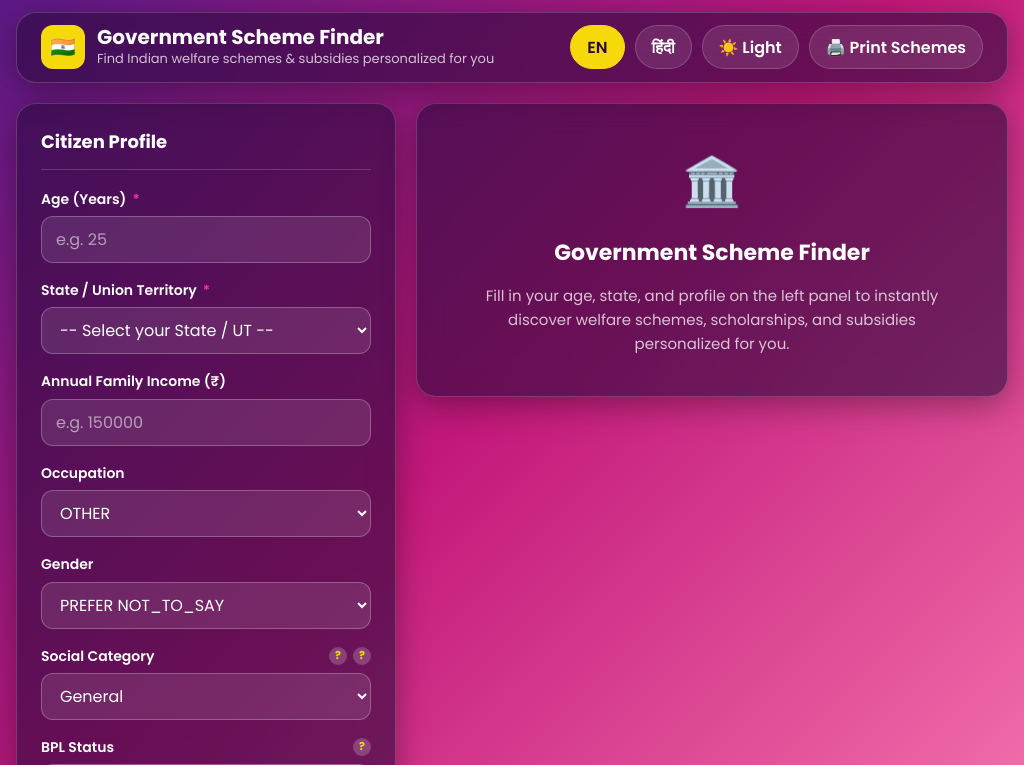
Test case: Phase 5 UI Tests › displays empty state with relaxation hint when zero schemes match
The image size is (1024, 765).
Expected: the dropdown labelled "State / Union Territory *" is shown, [41,307,371,354]
Note: Fill in age and state
Type "45" into the number field with placeholder "e.g. 25" at (206, 240), box [41,216,371,263]
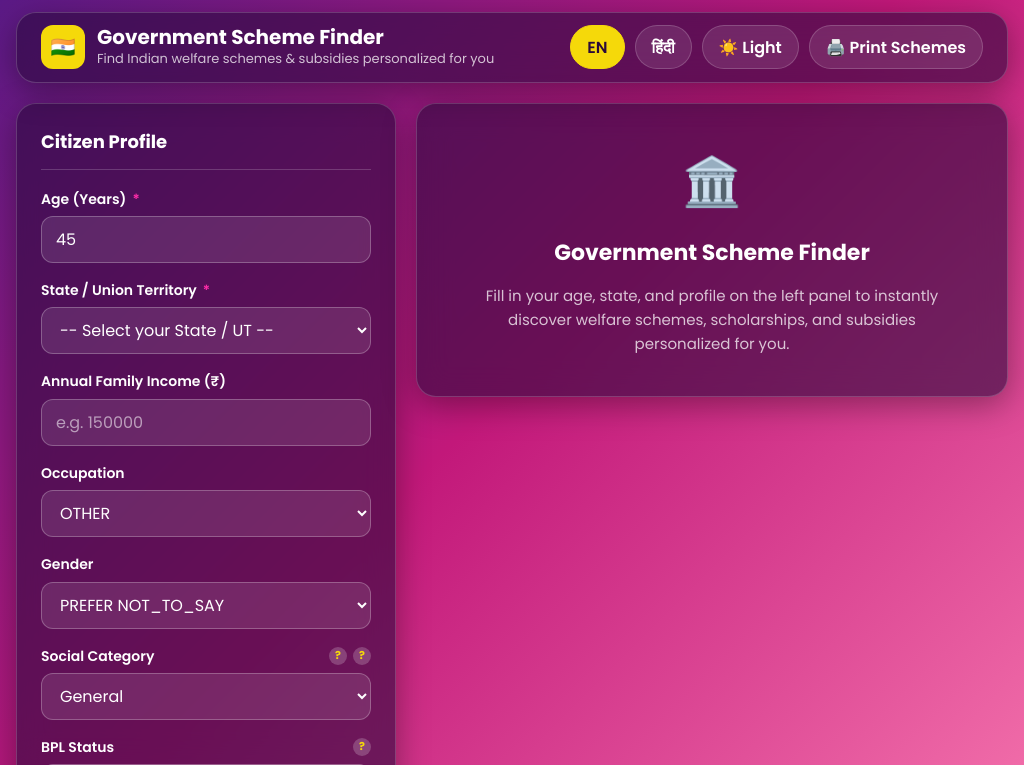
Select "Goa" in the dropdown labelled "State / Union Territory *" at (206, 331), box [41,307,371,354]
(page scrolled)
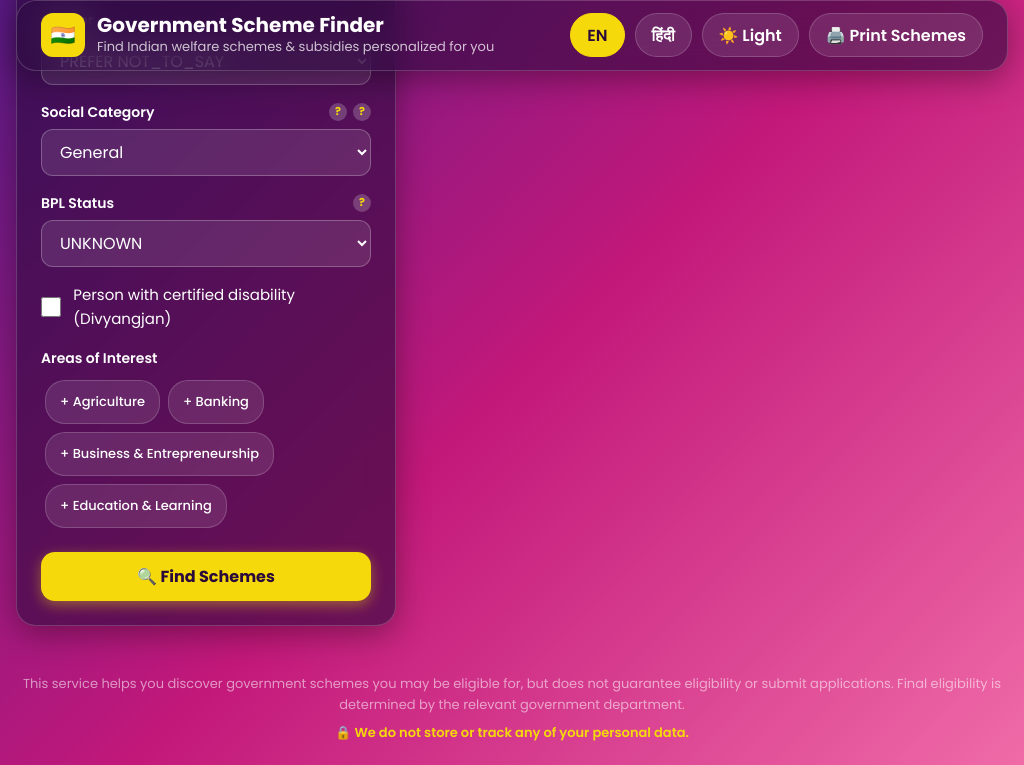
Note: Submit form
Click the button "🔍 Find Schemes" at (206, 576), box [41,552,371,601]
(page scrolled)
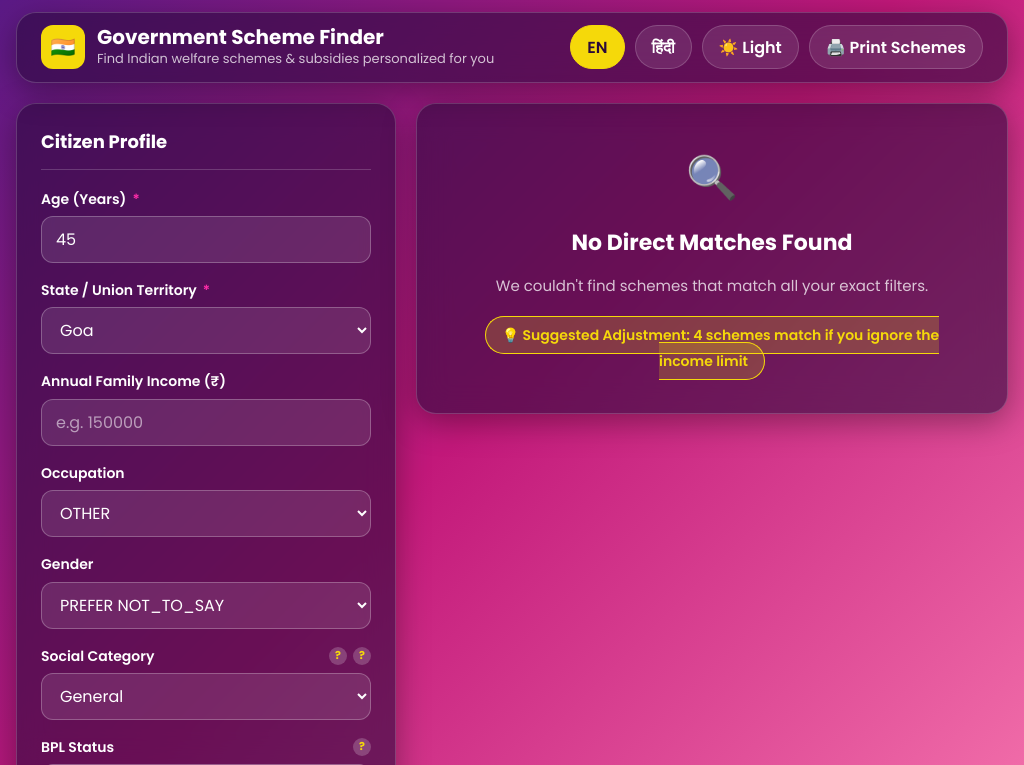
Result: the heading "No Direct Matches Found" is shown at [572,225,852,260]
Result: the text "4 schemes match if you ignore the income limit" is shown at [659,325,939,371]
